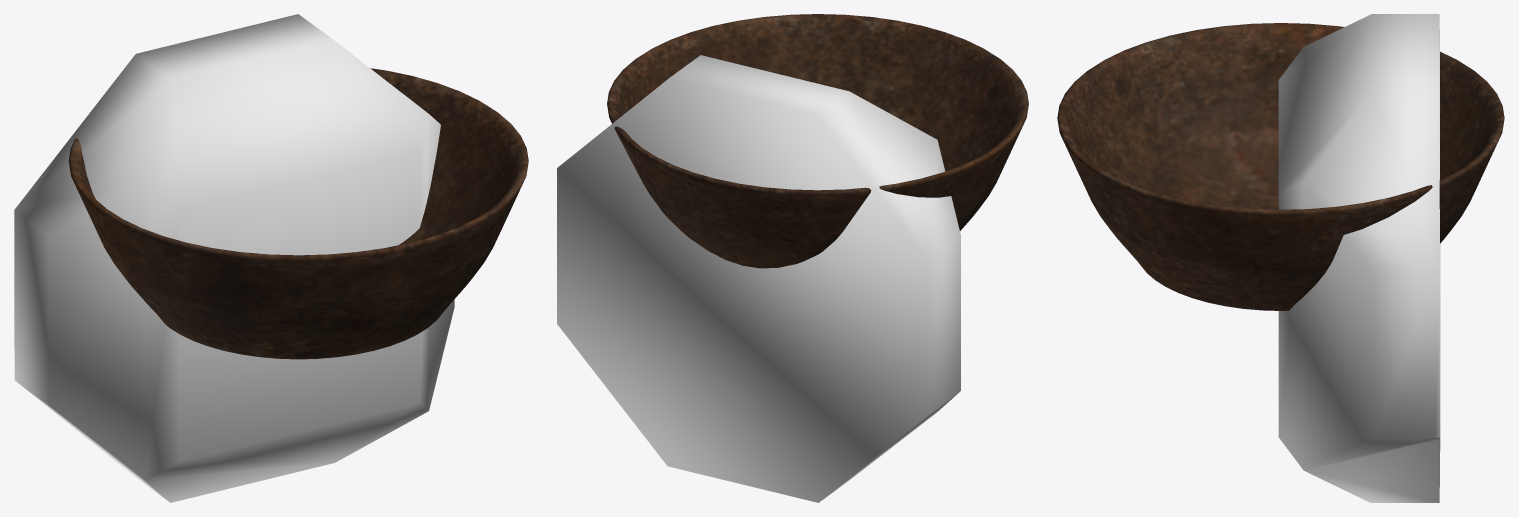
Rendered from SM_Ceramics_D_v2_.fbx.
3 views of the same model, side by side, from view 1: azimuth 30°, elevation 25°; view 2: azimuth 150°, elevation 25°; view 3: azimuth 270°, elevation 25° (orthographic). The views are drawn at different scales.
Visible parts, largest first — view 1: SM_Ceramics_D_v2__ConvexHulls, SM_Ceramics_D_v2_; view 2: SM_Ceramics_D_v2__ConvexHulls, SM_Ceramics_D_v2_; view 3: SM_Ceramics_D_v2__ConvexHulls, SM_Ceramics_D_v2_.
Boxes of the visible parts, x1,y1,x2,y2 form: SM_Ceramics_D_v2__ConvexHulls: [14, 14, 454, 502]; SM_Ceramics_D_v2_: [68, 68, 528, 359]; SM_Ceramics_D_v2__ConvexHulls: [557, 55, 960, 502]; SM_Ceramics_D_v2_: [607, 14, 1028, 268]; SM_Ceramics_D_v2__ConvexHulls: [1278, 14, 1440, 502]; SM_Ceramics_D_v2_: [1057, 23, 1504, 310].
Size of the model in its own units: 0.2786 by 0.2779 by 0.2738.
